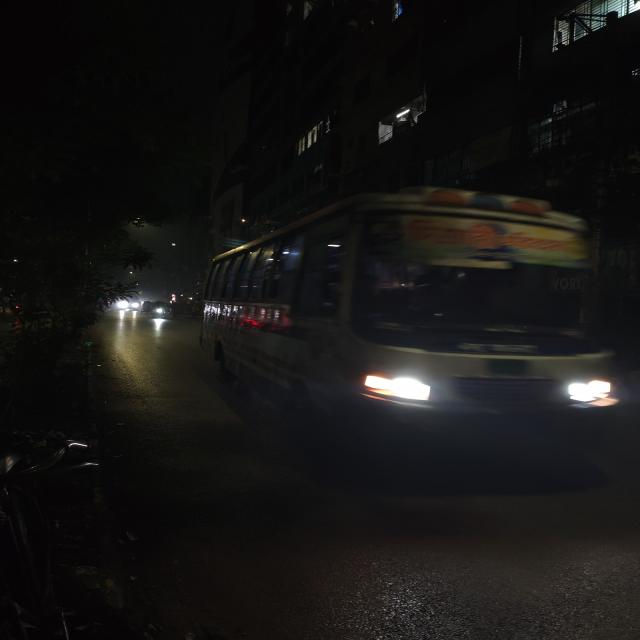bus: (203, 176, 636, 412)
rickshaw: (146, 300, 168, 319)
